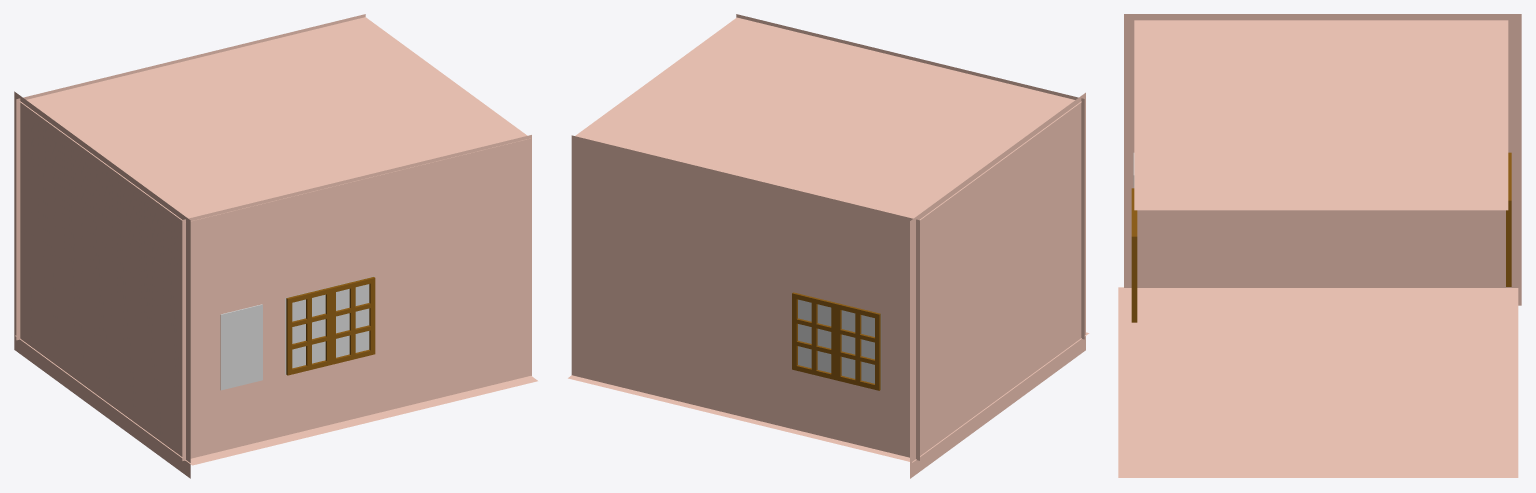
Rendered from House.fbx.
3 views of the same model, side by side, from view 1: azimuth 30°, elevation 25°; view 2: azimuth 150°, elevation 25°; view 3: azimuth 270°, elevation 25° (orthographic). The views are drawn at different scales.
Parts seen in each view (by area): view 1: House; view 2: House; view 3: House.
Part boxes in pixels (box(x1,y1,x2,y2)): House: box(14, 14, 537, 478); House: box(568, 14, 1089, 478); House: box(1118, 14, 1521, 477).
Size of the model in its own units: 982 by 693 by 870.
